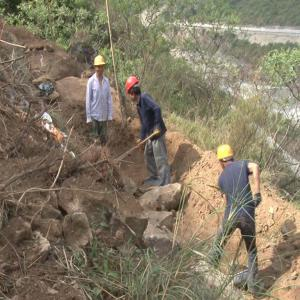red: (124, 77, 142, 102)
yellow: (216, 145, 237, 170), (93, 56, 107, 76)
